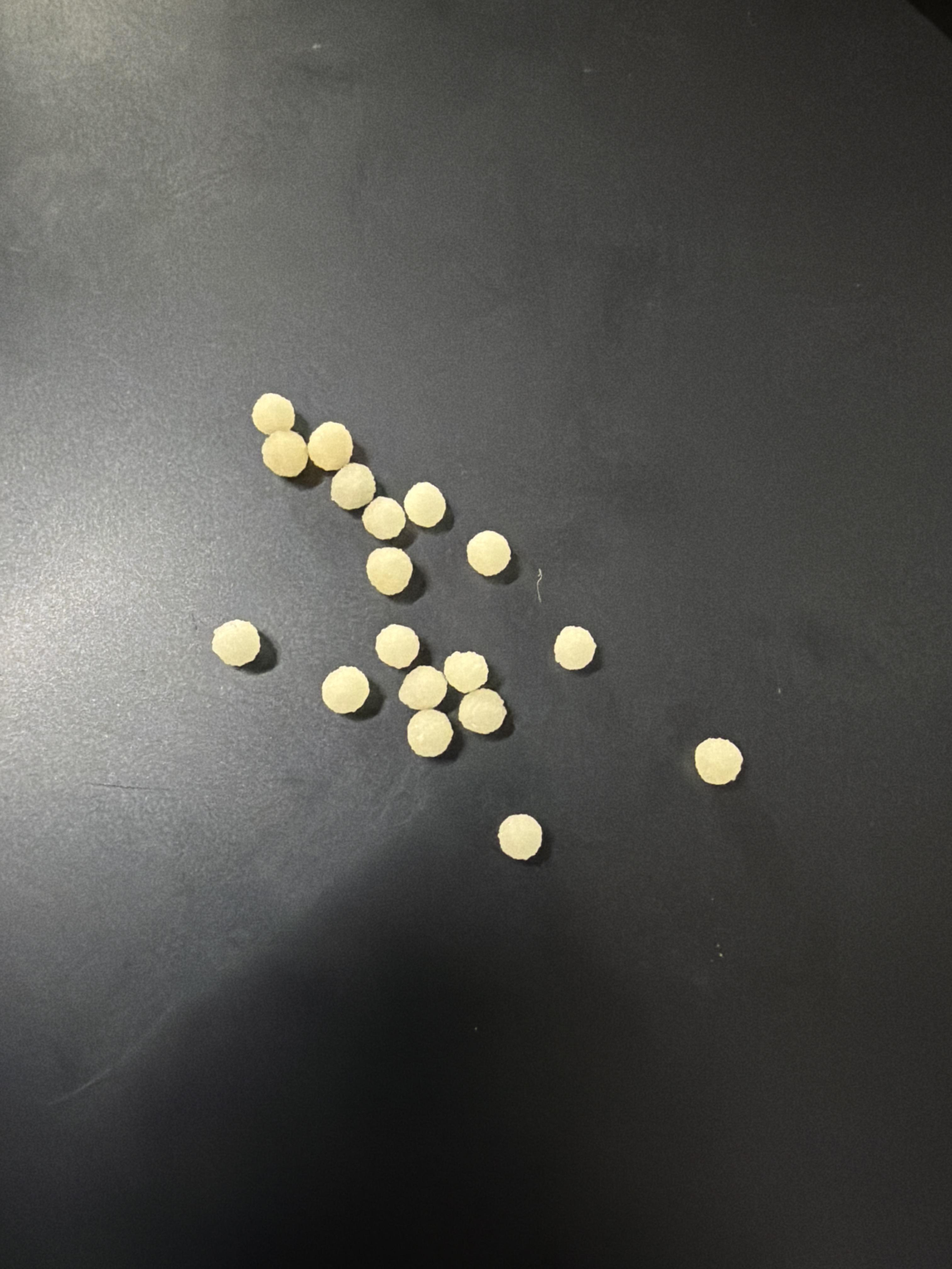pill: (694, 738, 743, 785), (212, 619, 260, 666), (458, 688, 507, 734), (308, 421, 353, 471), (322, 667, 369, 714), (366, 547, 412, 595), (398, 665, 447, 710), (262, 430, 308, 477), (407, 709, 452, 757), (331, 462, 376, 510), (498, 814, 542, 860), (467, 530, 511, 576), (375, 623, 419, 669), (362, 496, 405, 540), (443, 651, 488, 693), (404, 482, 446, 527), (554, 626, 596, 670), (252, 393, 295, 435)
